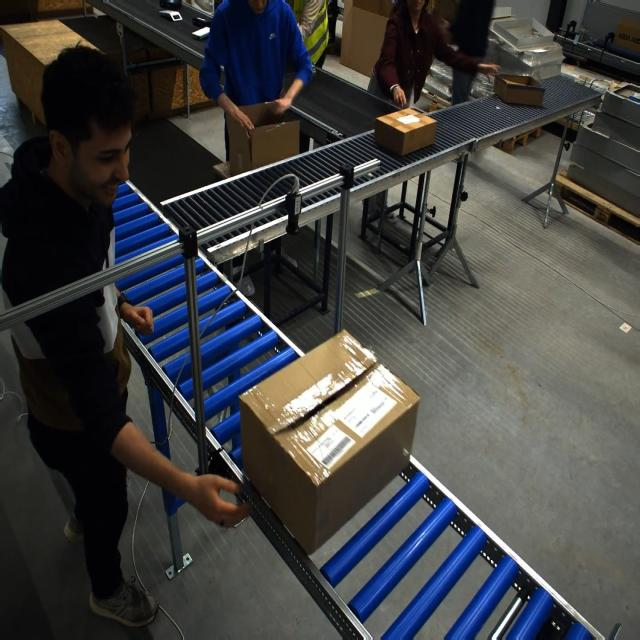box: (239, 336, 400, 552), (225, 101, 297, 177), (374, 108, 435, 157)
